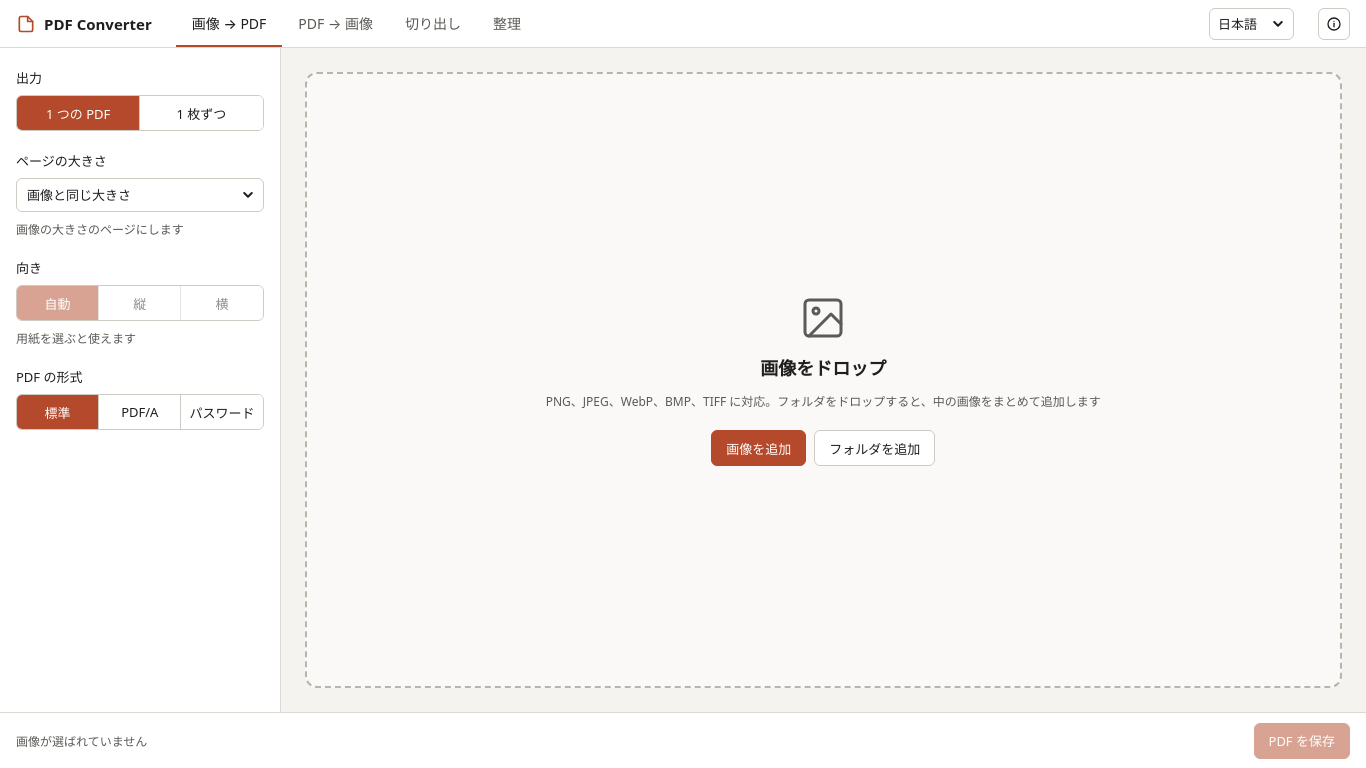
it: removing all the PDFs › asks after a page was edited, with the focus on Cancel
Click the tab "整理" at coordinates (507, 24), box [477, 0, 537, 47]
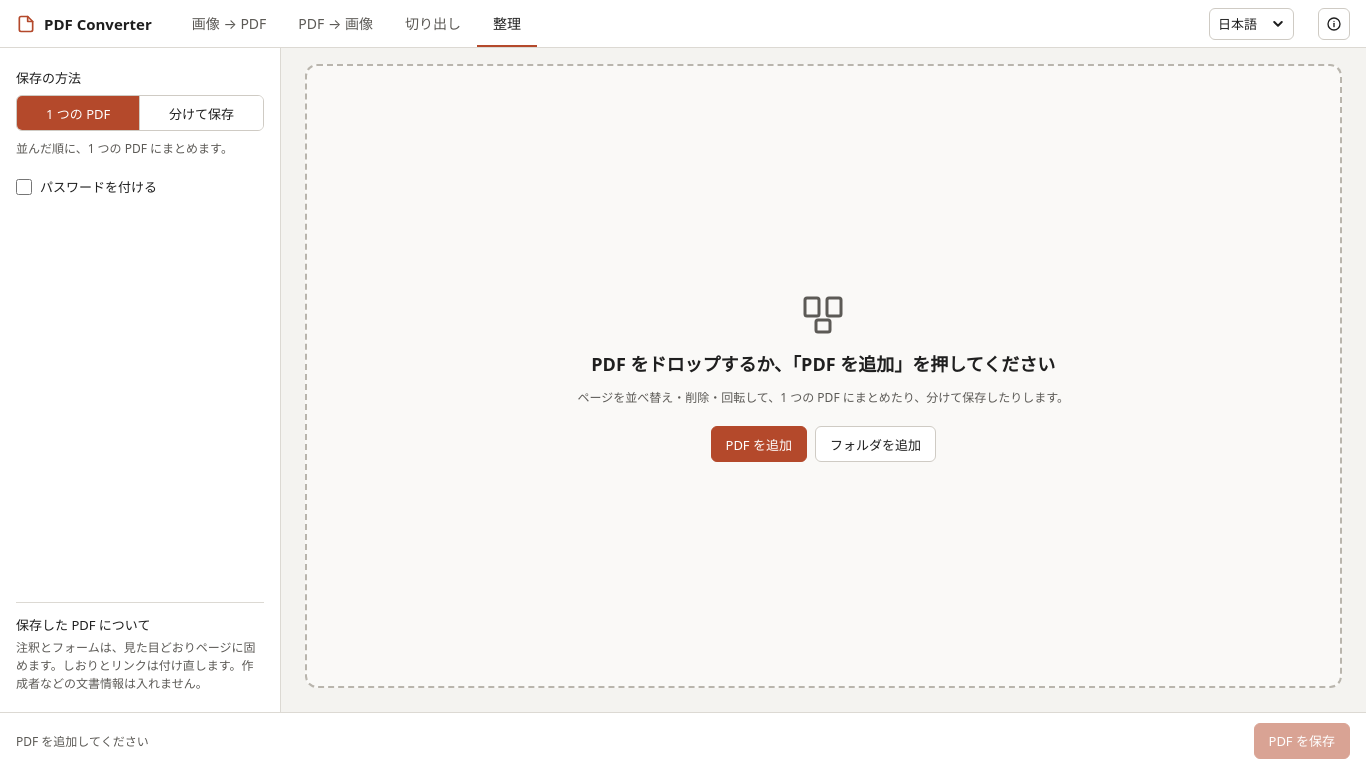
Click the button "PDF を追加" at coordinates (759, 444), box [710, 426, 807, 462]
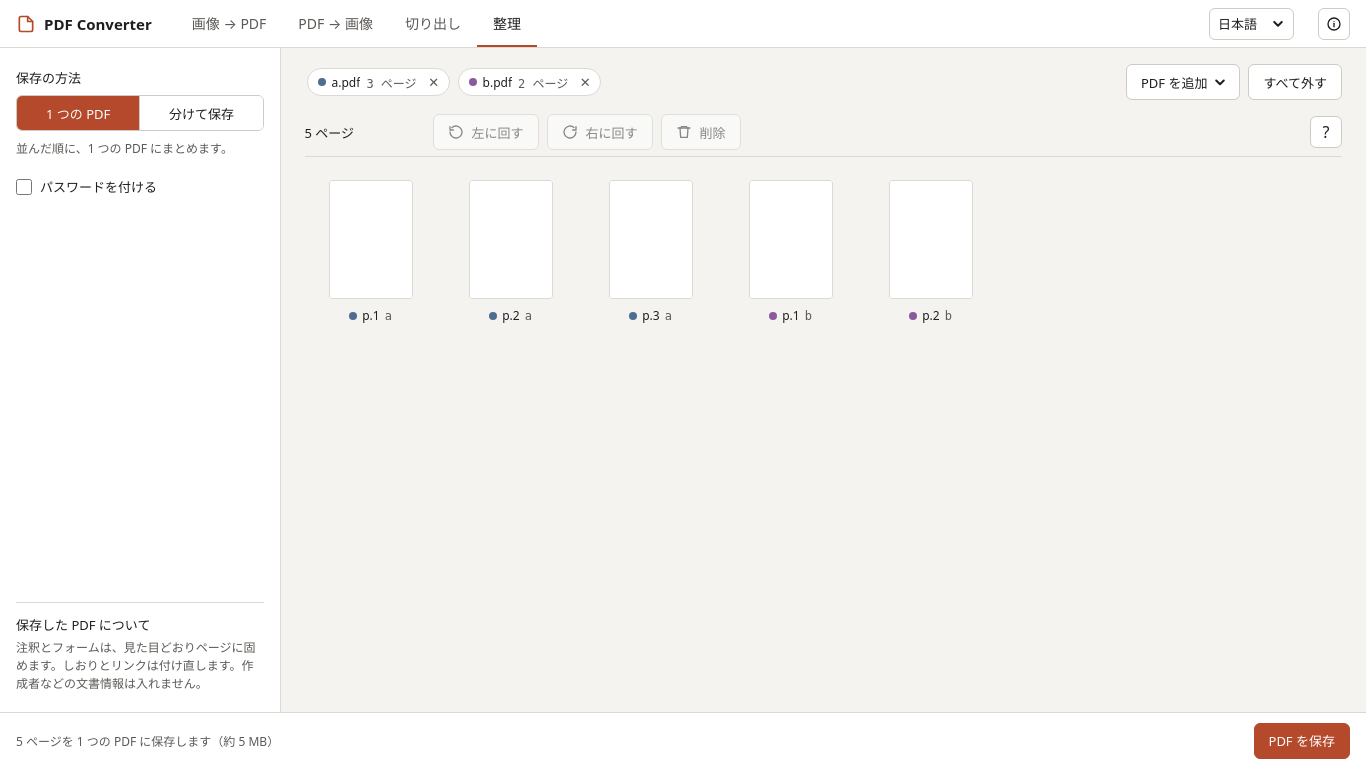
Press the mouse on the option "p.1 a" at coordinates (370, 252), box [328, 180, 412, 324]
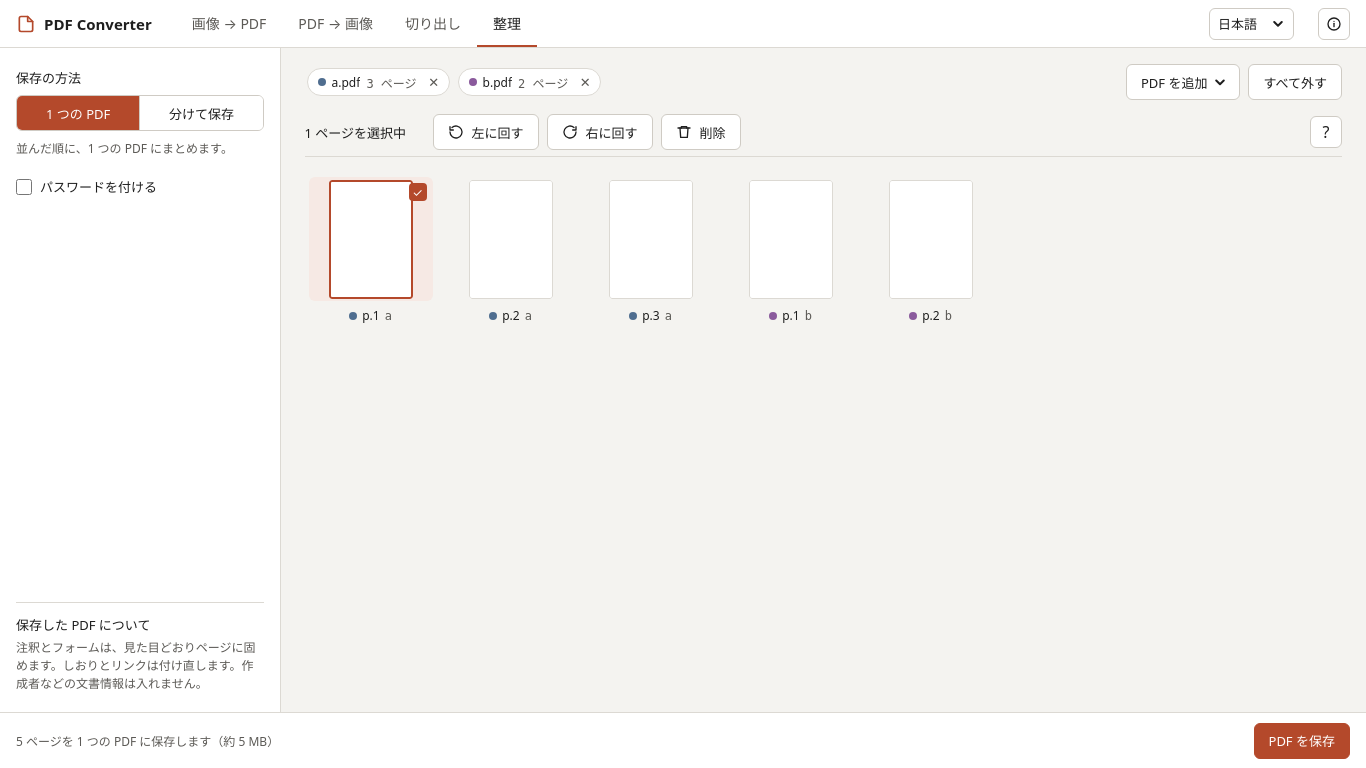
Click the button "削除" at coordinates (701, 132), box [661, 114, 741, 150]
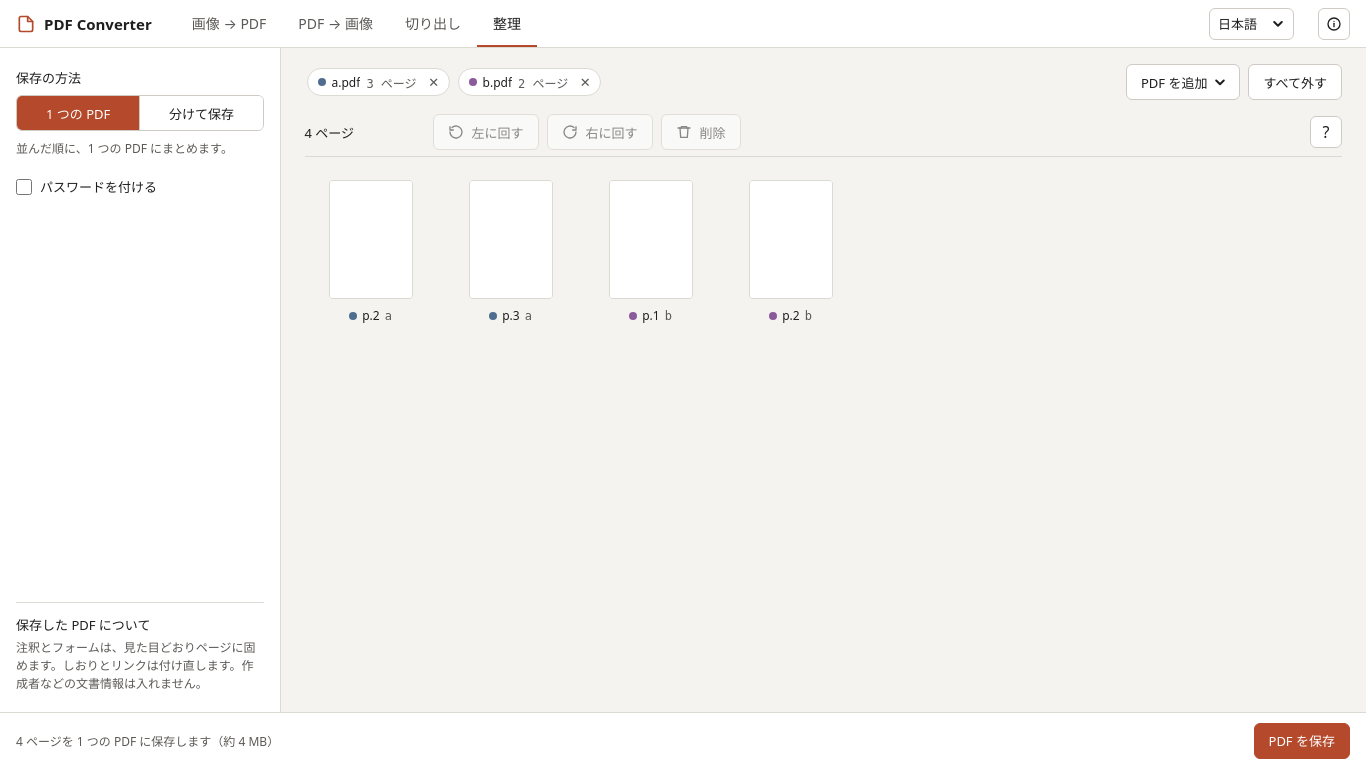
Click the button "すべて外す" at coordinates (1295, 82), box [1248, 64, 1342, 100]
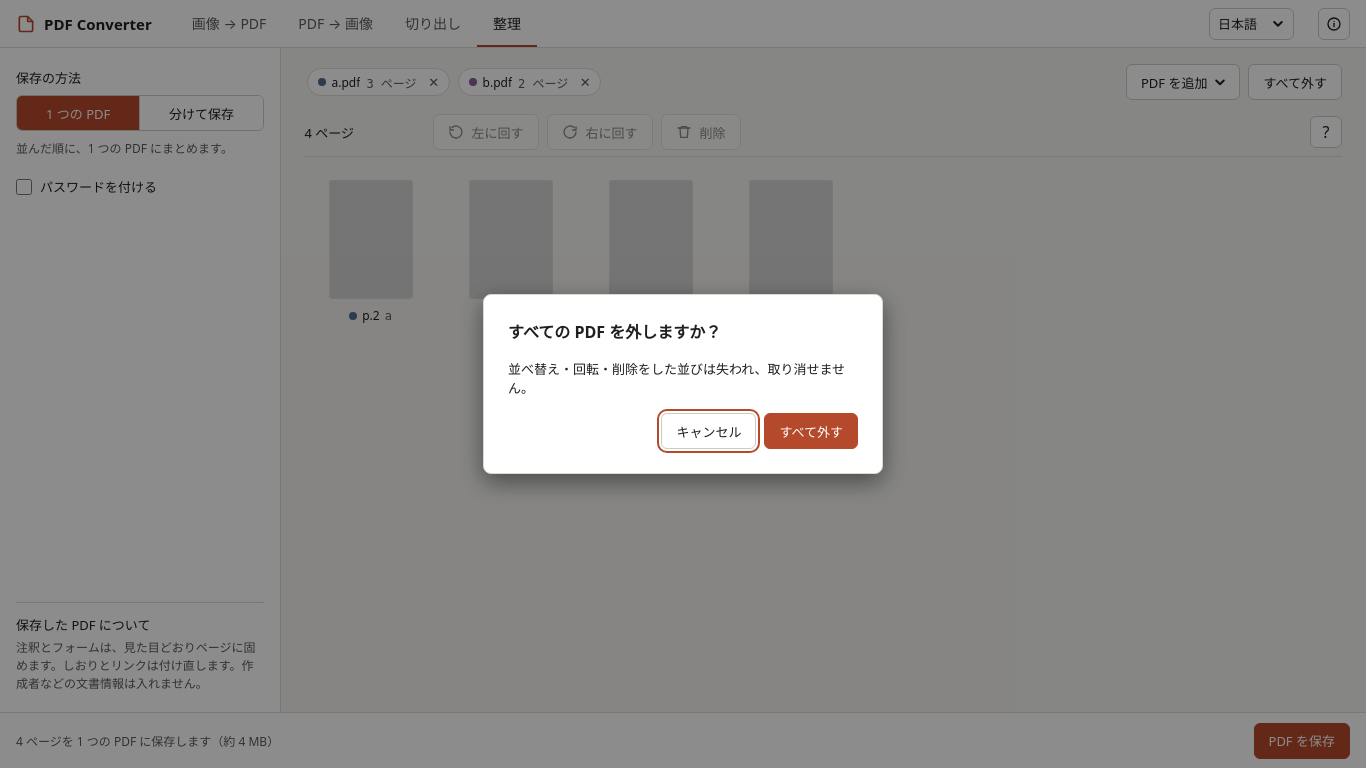
Check: the text "並べ替え・回転・削除をした並びは失われ、取り消せません。" is shown, box [508, 359, 858, 397]
